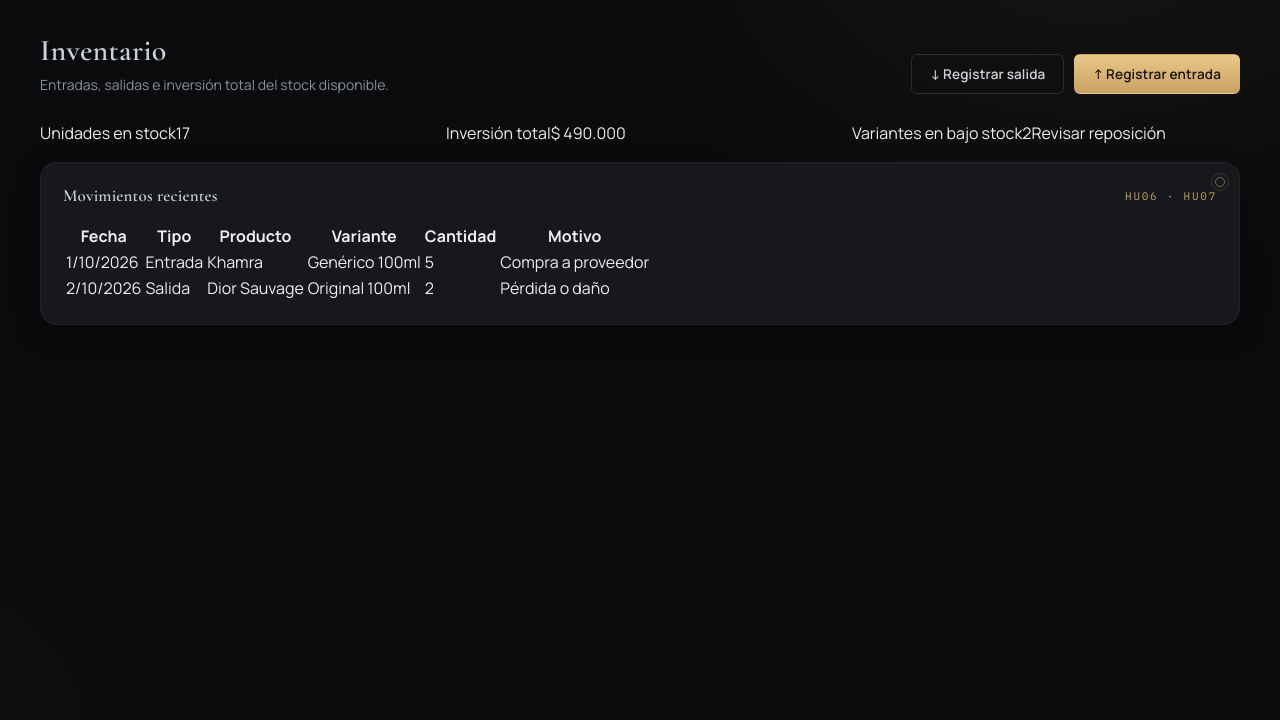
Test case: Inventario: formulario de movimientos › cambia el título al pasar de entrada a salida sin cerrar el formulario
Expected: the text "Unidades en stock" is shown, [40,122,176,144]
What coordinates should you click on to do the following:
click the button "↑ Registrar entrada"
I would click on:
 (1157, 74)
Its box is [1074,54,1240,94].
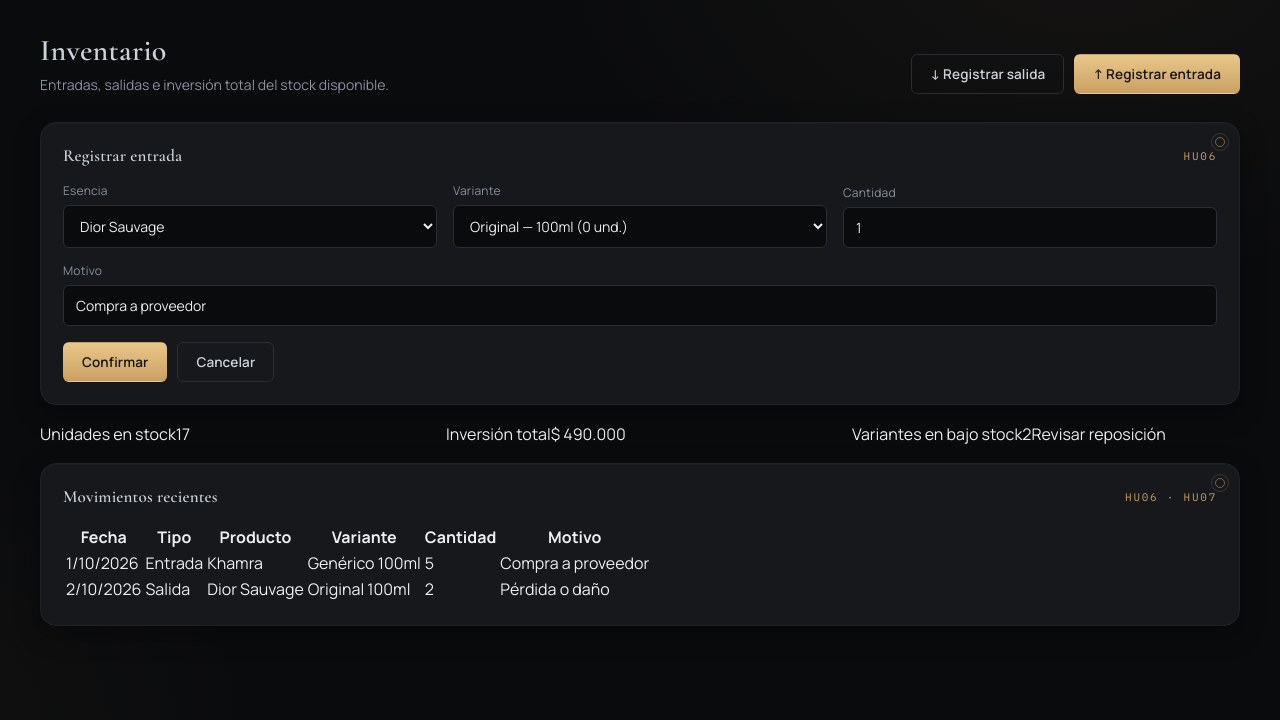
What coordinates should you click on to do the following:
click the button "↓ Registrar salida"
I would click on:
 (988, 74)
Its box is [912,54,1064,94].
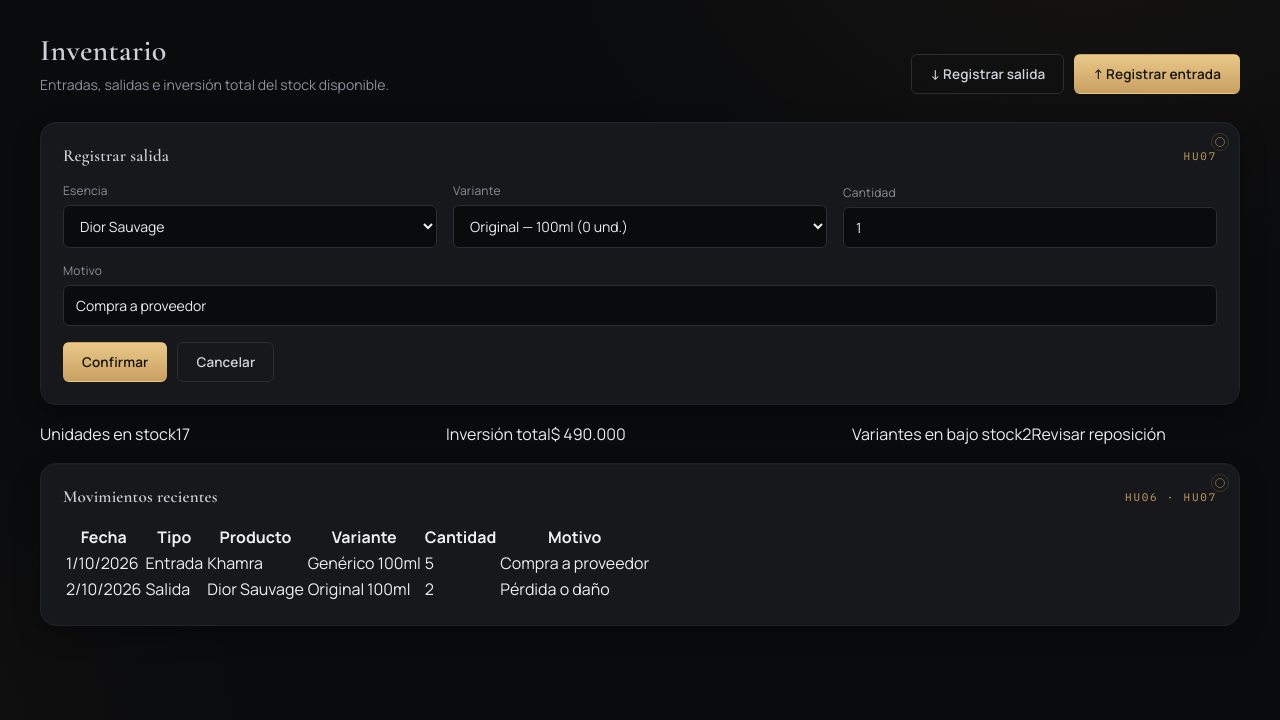
Expected: the heading "Registrar salida" is shown, [63,145,169,166]
